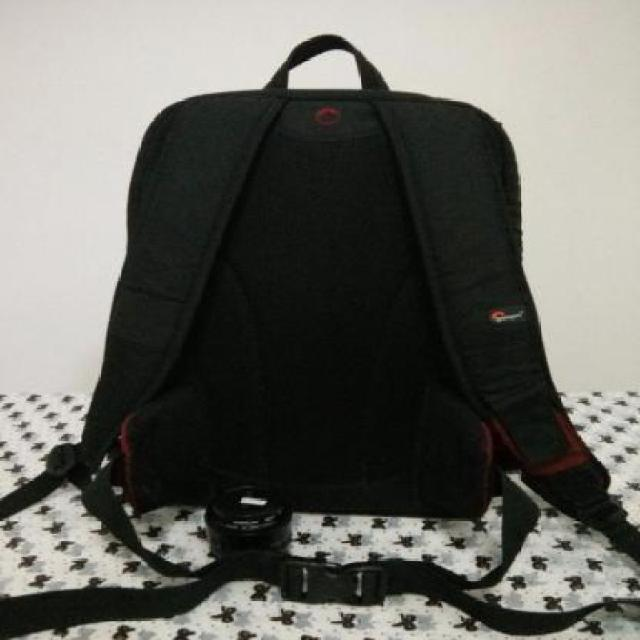backpack: (61, 32, 572, 534)
